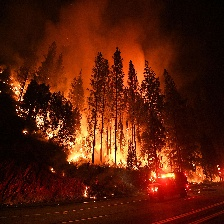fire: (8, 78, 83, 164), (90, 148, 224, 180), (83, 182, 95, 198)
smoke: (31, 19, 200, 104)
